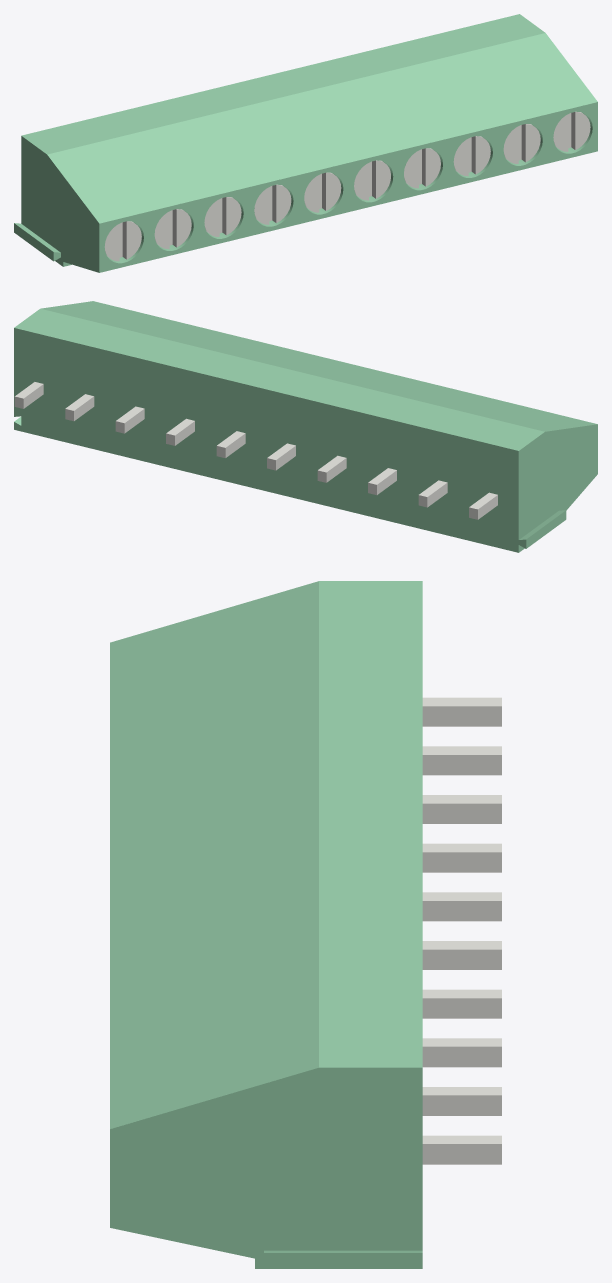
Rendered from TerminalBlock_Phoenix_MKDS-1,5-10-5.08_1x10_P5.08mm_Horizontal.glb.
3 views of the same model, one above another, from view 1: azimuth 30°, elevation 25°; view 2: azimuth 150°, elevation 25°; view 3: azimuth 270°, elevation 25° (orthographic). The views are drawn at different scales.
Visible parts, largest first — view 1: Shape_IndexedFaceSet.003, Shape_IndexedFaceSet.004, Shape_IndexedFaceSet.002, Shape_IndexedFaceSet, Shape_IndexedFaceSet.267, Shape_IndexedFaceSet.307, Shape_IndexedFaceSet.357, Shape_IndexedFaceSet.337, Shape_IndexedFaceSet.327, Shape_IndexedFaceSet.301, Shape_IndexedFaceSet.317, Shape_IndexedFaceSet.347 (+13 smaller); view 2: Shape_IndexedFaceSet.005, Shape_IndexedFaceSet.004, Shape_IndexedFaceSet.003, Shape_IndexedFaceSet, Shape_IndexedFaceSet.022; view 3: Shape_IndexedFaceSet.003, Shape_IndexedFaceSet.011, Shape_IndexedFaceSet.004, Shape_IndexedFaceSet.029, Shape_IndexedFaceSet.033, Shape_IndexedFaceSet.037, Shape_IndexedFaceSet.049, Shape_IndexedFaceSet.061, Shape_IndexedFaceSet.065, Shape_IndexedFaceSet.041, Shape_IndexedFaceSet.045, Shape_IndexedFaceSet.053 (+2 smaller).
Part boxes in pixels (x1=…): Shape_IndexedFaceSet.003: x1=47, y1=33, x2=597, y2=223; Shape_IndexedFaceSet.004: x1=22, y1=14, x2=545, y2=154; Shape_IndexedFaceSet.002: x1=99, y1=102, x2=597, y2=272; Shape_IndexedFaceSet: x1=21, y1=136, x2=99, y2=272; Shape_IndexedFaceSet.267: x1=425, y1=148, x2=440, y2=186; Shape_IndexedFaceSet.307: x1=475, y1=136, x2=490, y2=174; Shape_IndexedFaceSet.357: x1=126, y1=221, x2=141, y2=259; Shape_IndexedFaceSet.337: x1=176, y1=209, x2=191, y2=246; Shape_IndexedFaceSet.327: x1=525, y1=124, x2=540, y2=161; Shape_IndexedFaceSet.301: x1=304, y1=175, x2=319, y2=212; Shape_IndexedFaceSet.317: x1=226, y1=197, x2=241, y2=235; Shape_IndexedFaceSet.347: x1=575, y1=112, x2=590, y2=149; Shape_IndexedFaceSet.005: x1=14, y1=328, x2=526, y2=552; Shape_IndexedFaceSet.004: x1=14, y1=308, x2=544, y2=450; Shape_IndexedFaceSet.003: x1=41, y1=301, x2=597, y2=431; Shape_IndexedFaceSet: x1=518, y1=424, x2=597, y2=552; Shape_IndexedFaceSet.022: x1=526, y1=510, x2=566, y2=548; Shape_IndexedFaceSet.003: x1=110, y1=581, x2=318, y2=1128; Shape_IndexedFaceSet.011: x1=110, y1=1067, x2=422, y2=1268; Shape_IndexedFaceSet.004: x1=319, y1=581, x2=422, y2=1067; Shape_IndexedFaceSet.029: x1=422, y1=1046, x2=501, y2=1067; Shape_IndexedFaceSet.033: x1=422, y1=998, x2=501, y2=1018; Shape_IndexedFaceSet.037: x1=422, y1=852, x2=501, y2=872; Shape_IndexedFaceSet.049: x1=422, y1=706, x2=501, y2=726; Shape_IndexedFaceSet.061: x1=422, y1=1095, x2=501, y2=1115; Shape_IndexedFaceSet.065: x1=422, y1=1144, x2=501, y2=1164; Shape_IndexedFaceSet.041: x1=422, y1=949, x2=501, y2=969; Shape_IndexedFaceSet.045: x1=422, y1=901, x2=501, y2=921; Shape_IndexedFaceSet.053: x1=422, y1=755, x2=501, y2=775.
Size of the model in its own units: 20.29 by 3.86 by 6.81.
